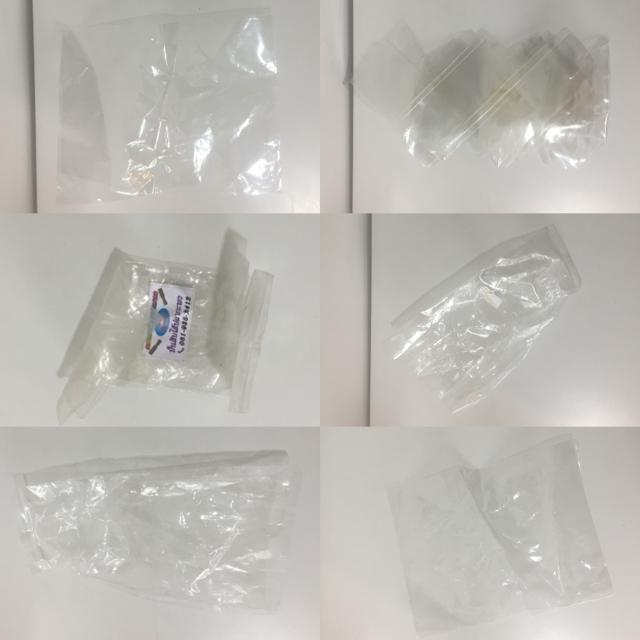Single-layer Plastic: (15, 450, 299, 611), (388, 435, 613, 632), (56, 9, 281, 205), (56, 229, 274, 423), (354, 25, 609, 167), (390, 225, 580, 412)
